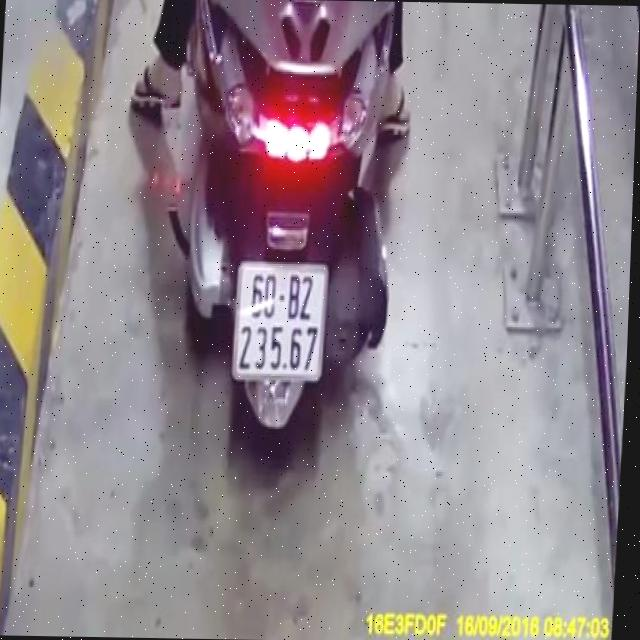motorcycle: (147, 0, 424, 452)
plate: (225, 255, 332, 382)
